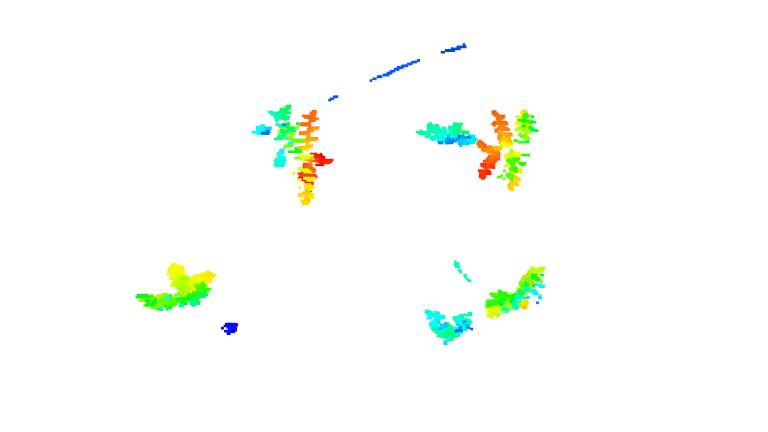chickpea: (419, 104, 542, 191), (254, 103, 334, 210), (130, 261, 215, 310), (484, 263, 551, 320), (419, 306, 477, 347)
